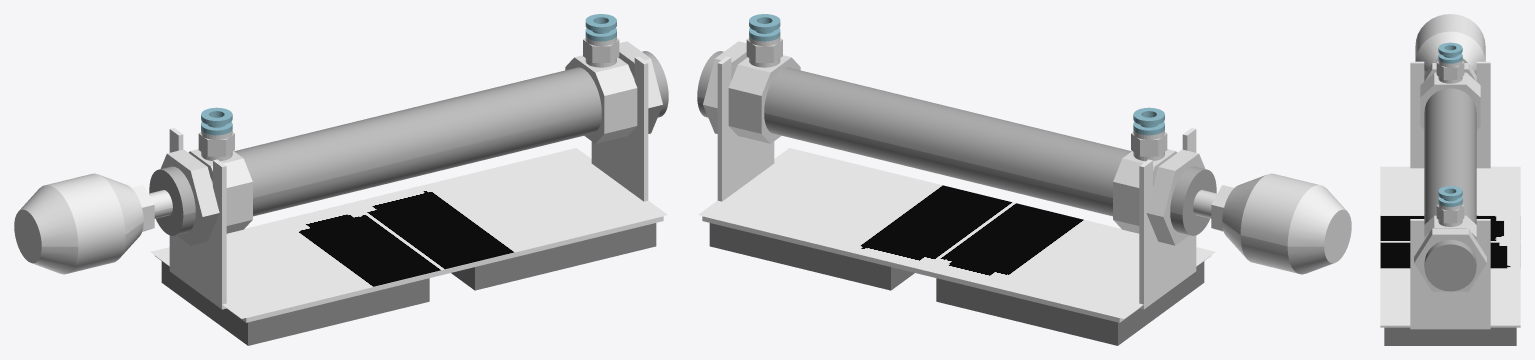
File: double-acting-cylinder.glb
3 renders of one model, left to right at view 1: azimuth 30°, elevation 25°; view 2: azimuth 150°, elevation 25°; view 3: azimuth 270°, elevation 25°, orthographic. The views are drawn at different scales.
Parts seen in each view (by area): view 1: Sticker__go1014__mesh0, Cylinder__go1013__mesh0, Rod__go1017__mesh0, Base__go1086__mesh0, Base__go1086__mesh4, Base__go1086__mesh3, Base__go1086__mesh5, Base__go1086__mesh1, Base__go1086__mesh2; view 2: Sticker__go1014__mesh0, Cylinder__go1013__mesh0, Rod__go1017__mesh0, Base__go1086__mesh0, Base__go1086__mesh4, Base__go1086__mesh3, Base__go1086__mesh5, Base__go1086__mesh1, Base__go1086__mesh2; view 3: Sticker__go1014__mesh0, Cylinder__go1013__mesh0, Base__go1086__mesh4, Rod__go1017__mesh0, Base__go1086__mesh0, Base__go1086__mesh5, Base__go1086__mesh3, Base__go1086__mesh1, Base__go1086__mesh2.
Part boxes in pixels (x1,y1,x2,y2): Sticker__go1014__mesh0: [150, 148, 667, 318]; Cylinder__go1013__mesh0: [149, 51, 668, 235]; Rod__go1017__mesh0: [14, 173, 172, 274]; Base__go1086__mesh0: [161, 223, 656, 345]; Base__go1086__mesh4: [154, 56, 663, 322]; Base__go1086__mesh3: [188, 55, 637, 233]; Base__go1086__mesh5: [160, 41, 662, 245]; Base__go1086__mesh1: [198, 36, 619, 161]; Base__go1086__mesh2: [201, 14, 616, 135]; Sticker__go1014__mesh0: [698, 148, 1215, 318]; Cylinder__go1013__mesh0: [697, 51, 1216, 235]; Rod__go1017__mesh0: [1193, 173, 1351, 274]; Base__go1086__mesh0: [709, 223, 1204, 345]; Base__go1086__mesh4: [702, 56, 1211, 322]; Base__go1086__mesh3: [728, 55, 1177, 233]; Base__go1086__mesh5: [703, 41, 1205, 245]; Base__go1086__mesh1: [746, 36, 1167, 161]; Base__go1086__mesh2: [749, 14, 1164, 135]; Sticker__go1014__mesh0: [1380, 166, 1520, 325]; Cylinder__go1013__mesh0: [1424, 88, 1476, 291]; Base__go1086__mesh4: [1380, 61, 1520, 329]; Rod__go1017__mesh0: [1415, 14, 1485, 74]; Base__go1086__mesh0: [1384, 327, 1516, 345]; Base__go1086__mesh5: [1414, 63, 1486, 291]; Base__go1086__mesh3: [1420, 72, 1480, 240]; Base__go1086__mesh1: [1436, 59, 1464, 226]; Base__go1086__mesh2: [1438, 42, 1462, 206].
Bounding box in the file's own units: 0.275 × 0.083 × 0.07.
7 materials, 1 textured.
